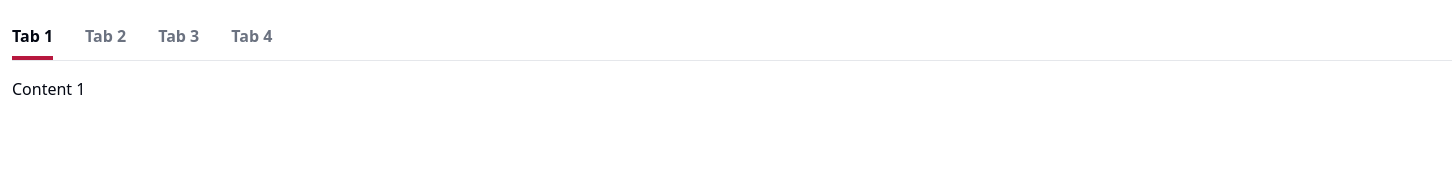
Tabs › ensures only one tab content is visible at a time
Expected: the text "Content 1" is shown, [12,78,86,100]
Expected: the text "Content 2" is not shown
Switch to tab2 - only tab2 content should be visible
Step 1. Click the tab "Tab 2" → (106, 36), box [85,12,126,60]
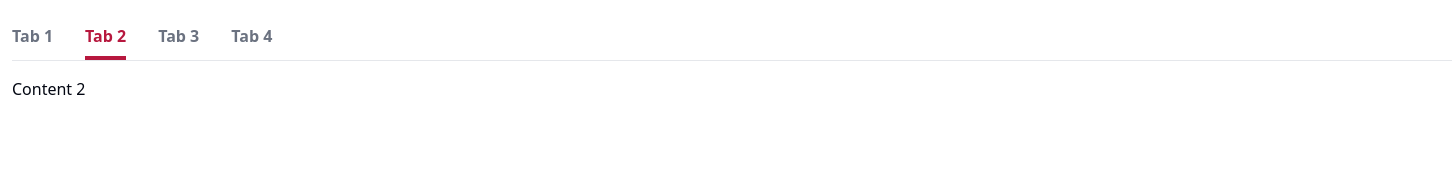
Expected: the text "Content 3" is not shown
Now the text "Content 2" is shown, box [12,78,86,100]
Now the text "Content 1" is gone
Switch to tab3 - only tab3 content should be visible
Step 2. Click the tab "Tab 3" → (179, 36), box [158,12,199,60]
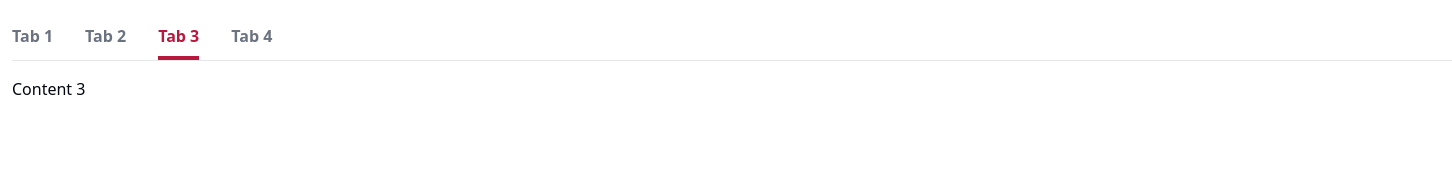
Expected: the text "Content 1" is not shown
Now the text "Content 3" is shown, box [12,78,86,100]
Now the text "Content 2" is gone
Switch to tab4 - only tab4 content should be visible
Step 3. Click the tab "Tab 4" → (252, 36), box [231,12,272,60]
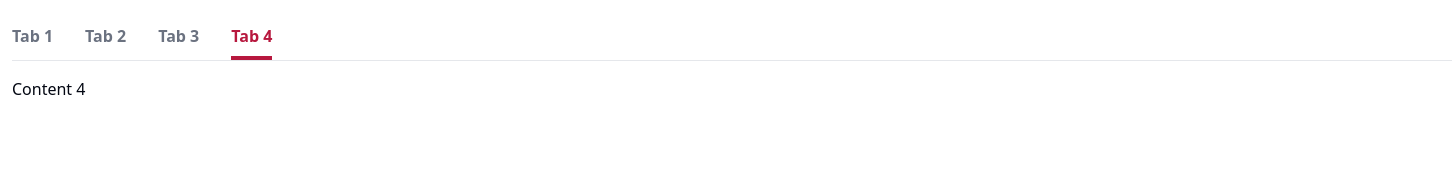
Expected: the text "Content 1" is not shown
Now the text "Content 4" is shown, box [12,78,86,100]
Now the text "Content 3" is gone
Switch back to tab1 - only tab1 content should be visible
Step 4. Click the tab "Tab 1" → (33, 36), box [12,12,53,60]
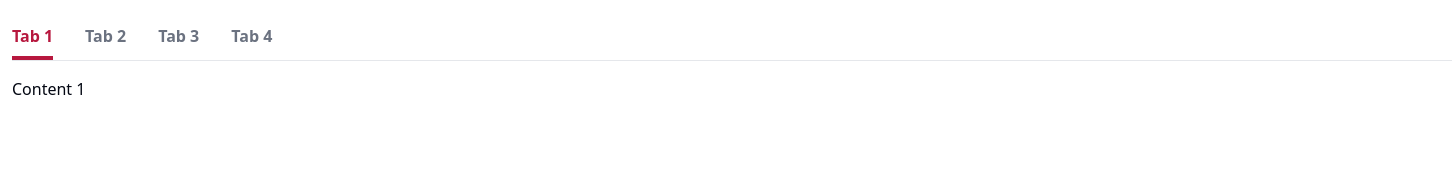
Expected: the text "Content 2" is not shown
Now the text "Content 1" is shown, box [12,78,86,100]
Now the text "Content 4" is gone
